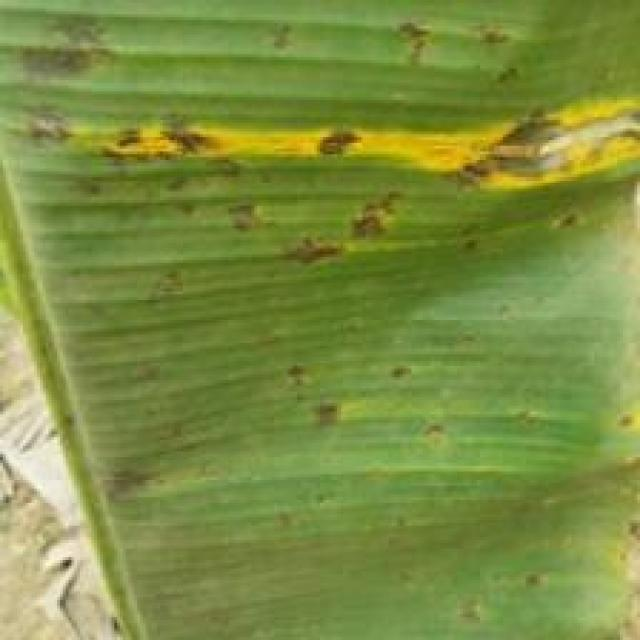Downey_mildrew: (0, 1, 640, 304), (30, 356, 190, 514), (258, 325, 441, 451), (582, 371, 640, 640)
